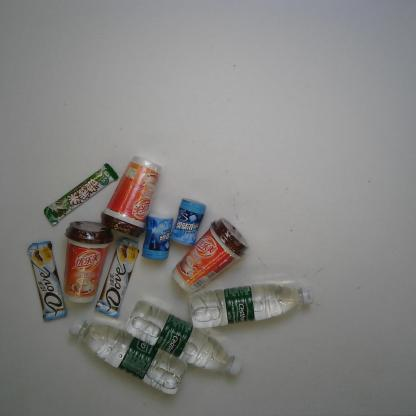Chocolate: (43, 160, 121, 227), (94, 238, 139, 318), (26, 240, 68, 322)
Drink: (68, 317, 188, 395), (124, 299, 243, 377), (188, 282, 314, 328)
Gum: (169, 197, 207, 247), (140, 212, 174, 261)
Instant Drink: (171, 217, 250, 294), (100, 156, 162, 238), (62, 220, 114, 305)
